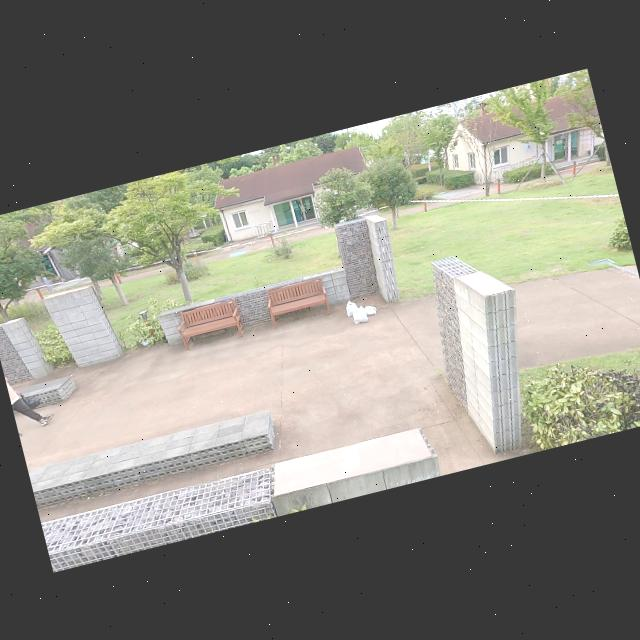trash: (339, 296, 361, 318), (349, 304, 368, 326), (361, 301, 381, 318)
